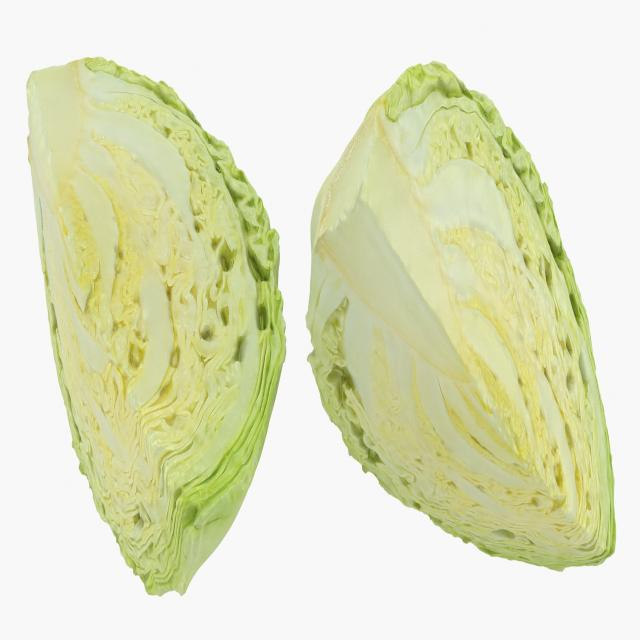haft-cabbage: (304, 61, 617, 584), (22, 38, 284, 602)
